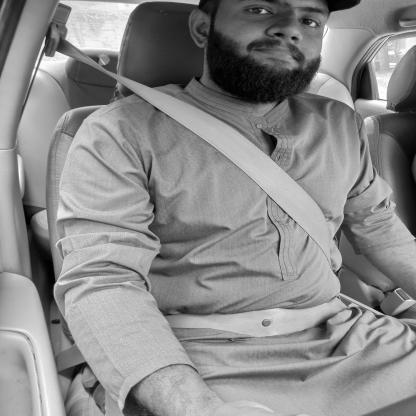seatbelt: (169, 0, 332, 285)
